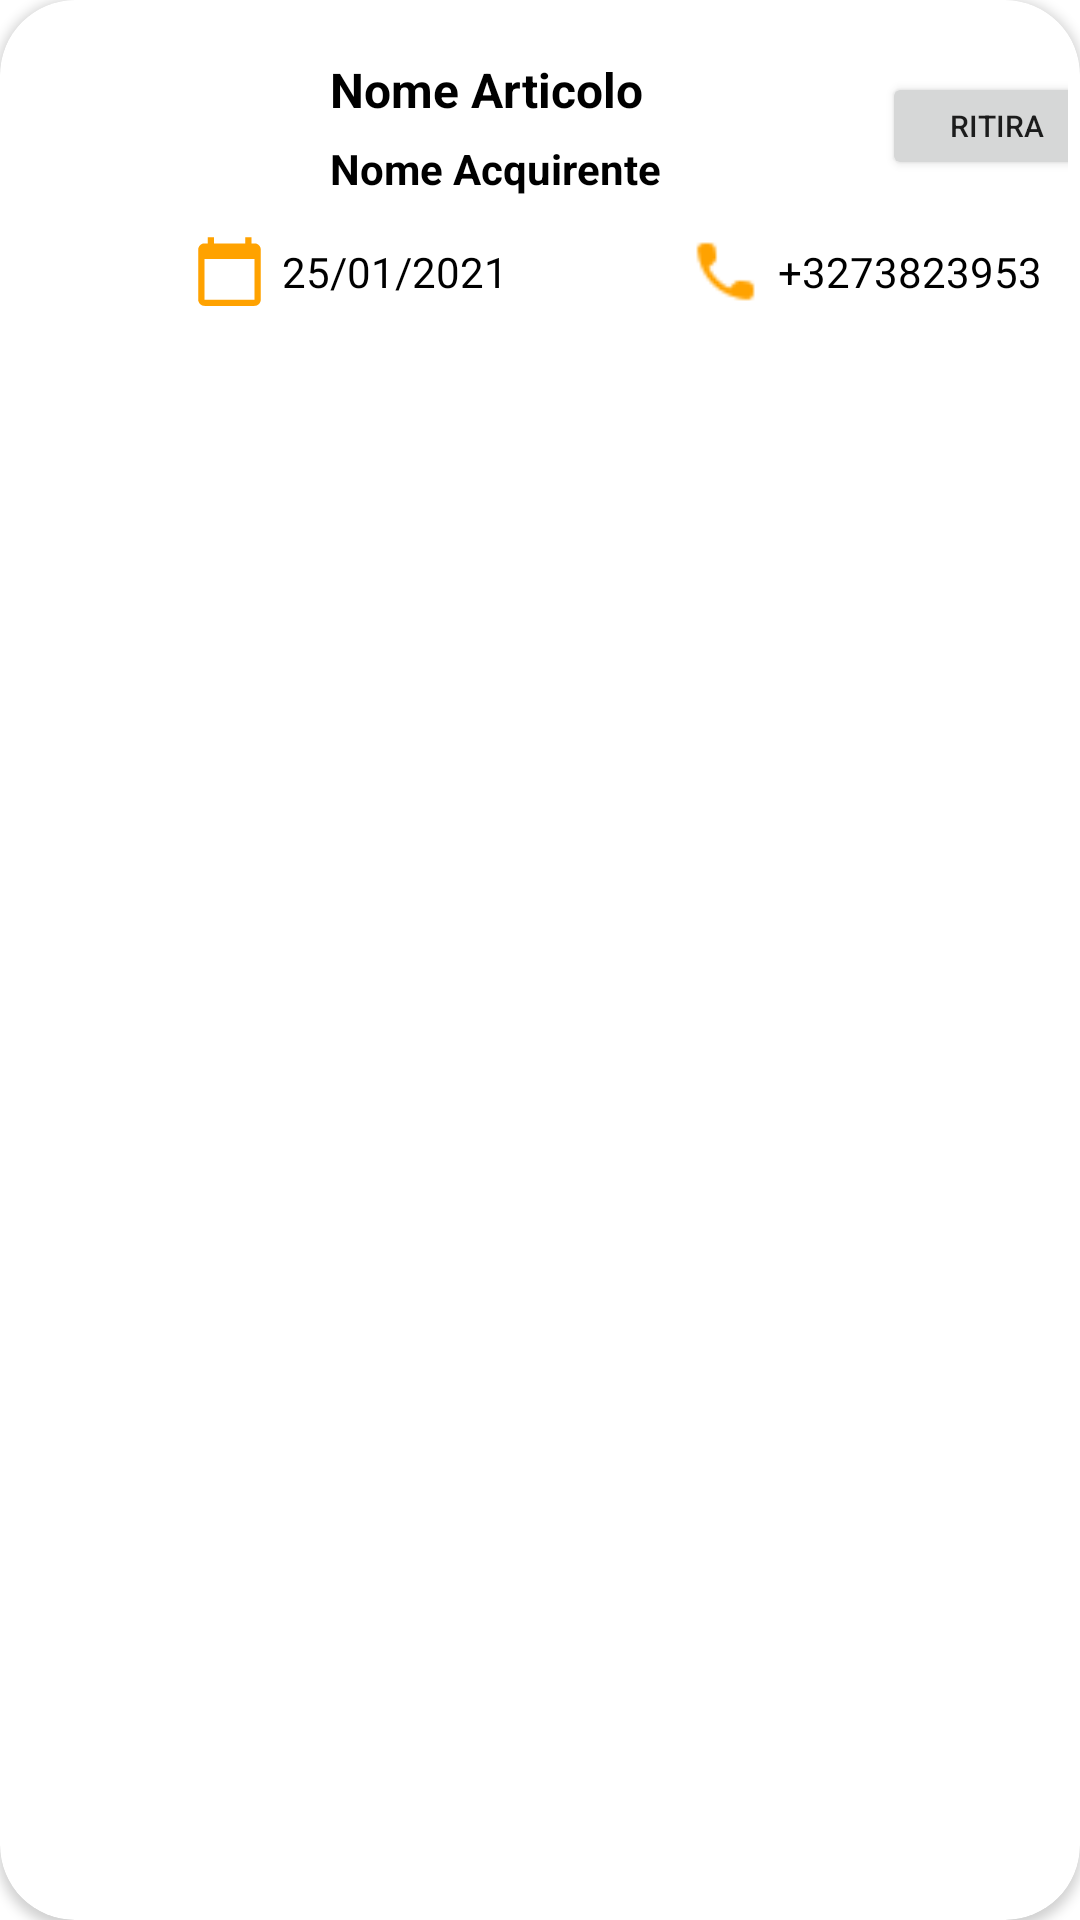

Icon bounding boxes for this 1080×1920 phone screenshot, format (x1, y1, x2, y2):
calendar: (198, 237, 261, 306)
phone: (696, 242, 755, 301)
